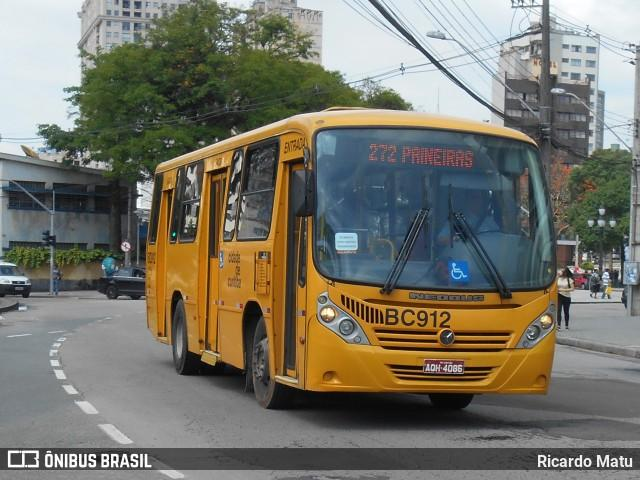PAINEIRAS: (399, 142, 478, 173)
